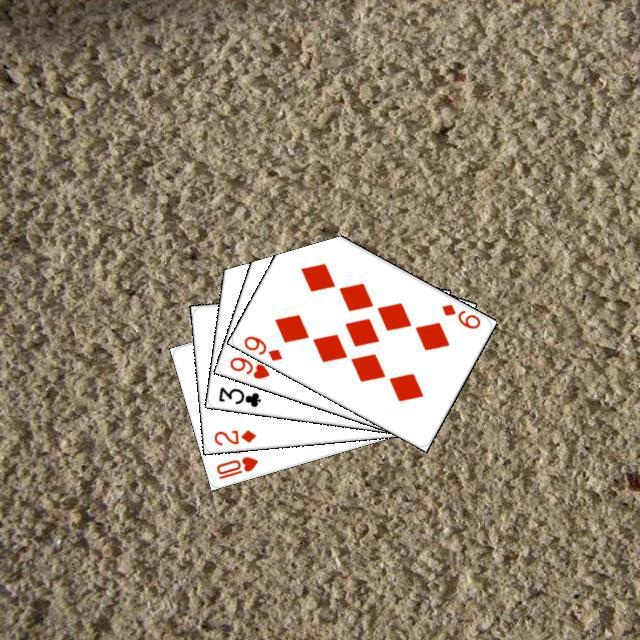10h: (211, 451, 260, 481)
2d: (209, 425, 258, 447)
3c: (214, 382, 263, 409)
9d: (239, 331, 284, 363), (437, 299, 482, 331)
9h: (225, 352, 272, 381)
